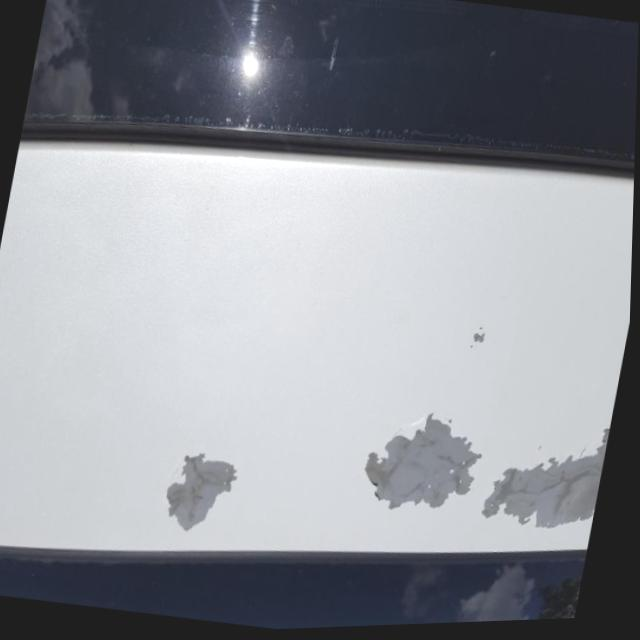Paint-fading: (480, 421, 611, 533), (361, 411, 485, 514), (164, 448, 239, 537), (468, 328, 487, 353)
